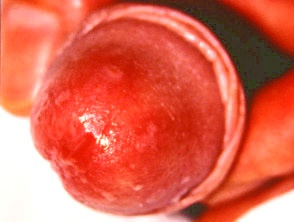SJS-TEN: (10, 21, 215, 222)
